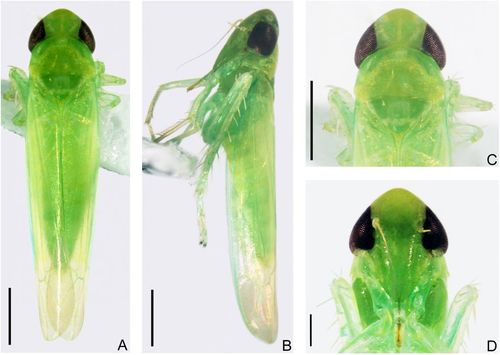Cicadellidae: (17, 5, 128, 340), (190, 7, 285, 343)
